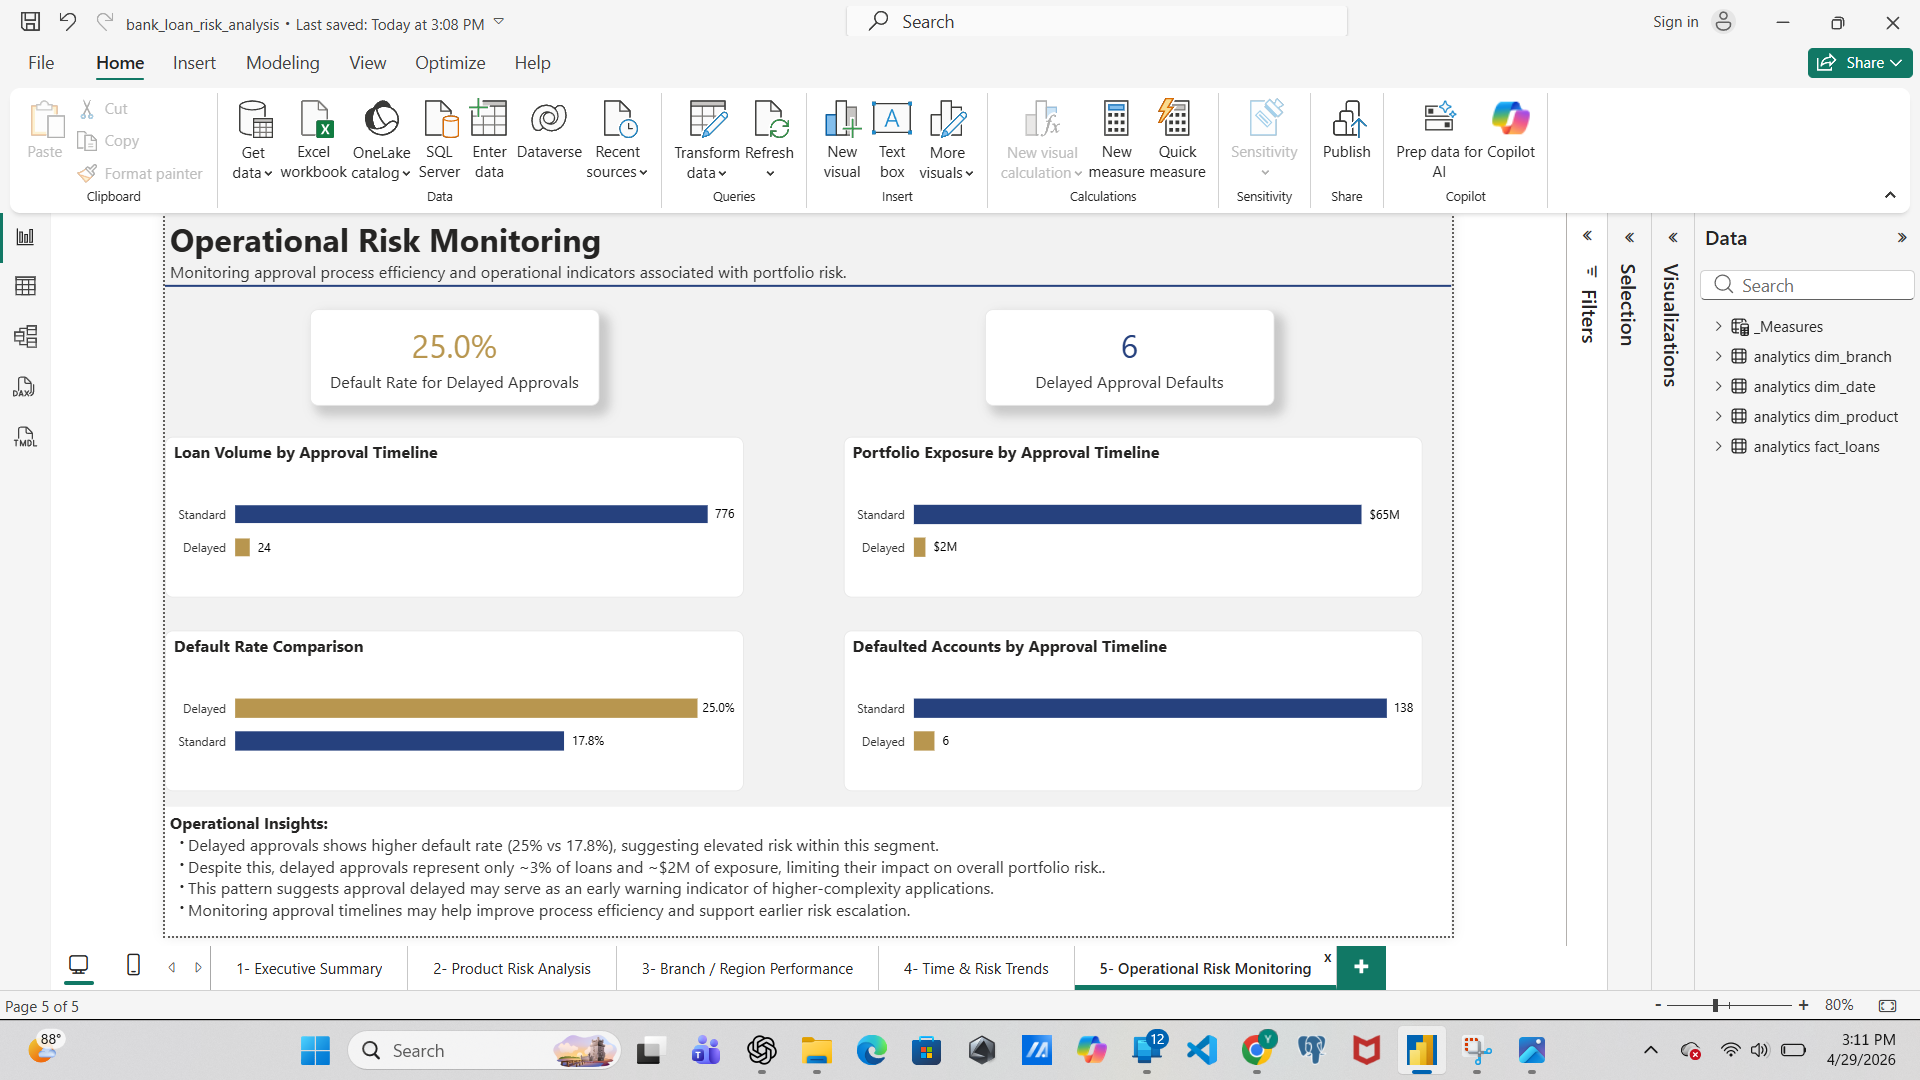

The page's visual inventory and layout, read from the dashboard file:
{"tool":"powerbi","page":{"name":"5- Operational Risk Monitoring","canvas":[1280,720],"ordinal":4},"visuals":[{"type":"shape","box":[0,0,1280,80],"z":0},{"type":"shape","box":[0,0,1280,145],"z":1000},{"type":"textbox","box":[0,0,1280,80],"z":2000},{"type":"clusteredBarChart","title":"Loan Volume by Approval Timeline","fields":{"Y":["_Measures.Total Loans"],"Category":["analytics fact_loans.Approval Timeline"]},"box":[0,223,576,160],"z":3000},{"type":"clusteredBarChart","title":"Default Rate Comparison","fields":{"Y":["_Measures.Default Rate %"],"Category":["analytics fact_loans.Approval Timeline"]},"box":[0,416,576,160],"z":4000},{"type":"clusteredBarChart","title":"Portfolio Exposure by Approval Timeline","fields":{"Y":["_Measures.Total Valid Loan Amount"],"Category":["analytics fact_loans.Approval Timeline"]},"box":[676,223,576,160],"z":5000},{"type":"clusteredBarChart","title":"Defaulted Accounts by Approval Timeline","fields":{"Y":["_Measures.Total Defaulted Loans"],"Category":["analytics fact_loans.Approval Timeline"]},"box":[676,416,576,160],"z":6000},{"type":"card","fields":{"Values":["_Measures.High Risk Approval Default Rate"]},"box":[144,96,288,96],"z":7000},{"type":"textbox","box":[0,590.9,1280,129.4],"z":8000},{"type":"card","fields":{"Values":["_Measures.Delayed Approvals Defaults"]},"box":[816,96,288,96],"z":9000}]}

Visuals, with their boxes on the page's 1280x720 design canvas (x1, y1, x2, y2). These are canvas units, not pixel positions in the 1920x1080 screenshot, which may show the page scaled, cropped or inside an application window:
shape: box(0, 0, 1280, 80)
shape: box(0, 0, 1280, 145)
textbox: box(0, 0, 1280, 80)
"Loan Volume by Approval Timeline" clusteredBarChart: box(0, 223, 576, 383)
"Default Rate Comparison" clusteredBarChart: box(0, 416, 576, 576)
"Portfolio Exposure by Approval Timeline" clusteredBarChart: box(676, 223, 1252, 383)
"Defaulted Accounts by Approval Timeline" clusteredBarChart: box(676, 416, 1252, 576)
card - _Measures.High Risk Approval Default Rate: box(144, 96, 432, 192)
textbox: box(0, 591, 1280, 720)
card - _Measures.Delayed Approvals Defaults: box(816, 96, 1104, 192)
